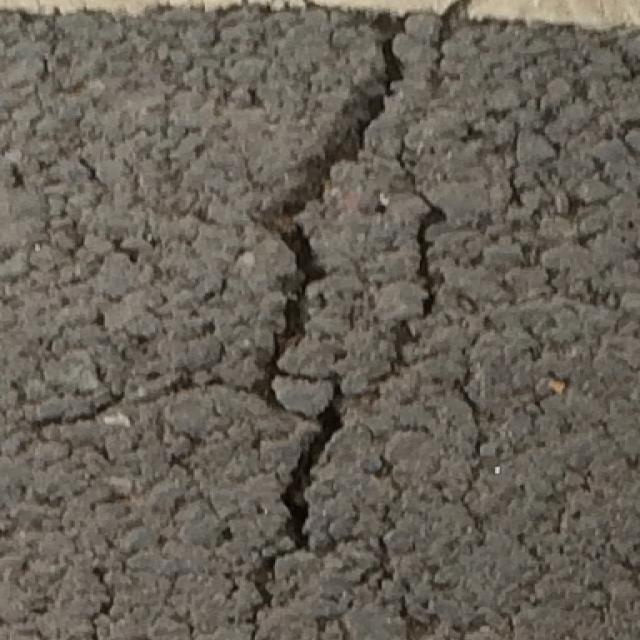Rippled: (16, 3, 640, 639)
